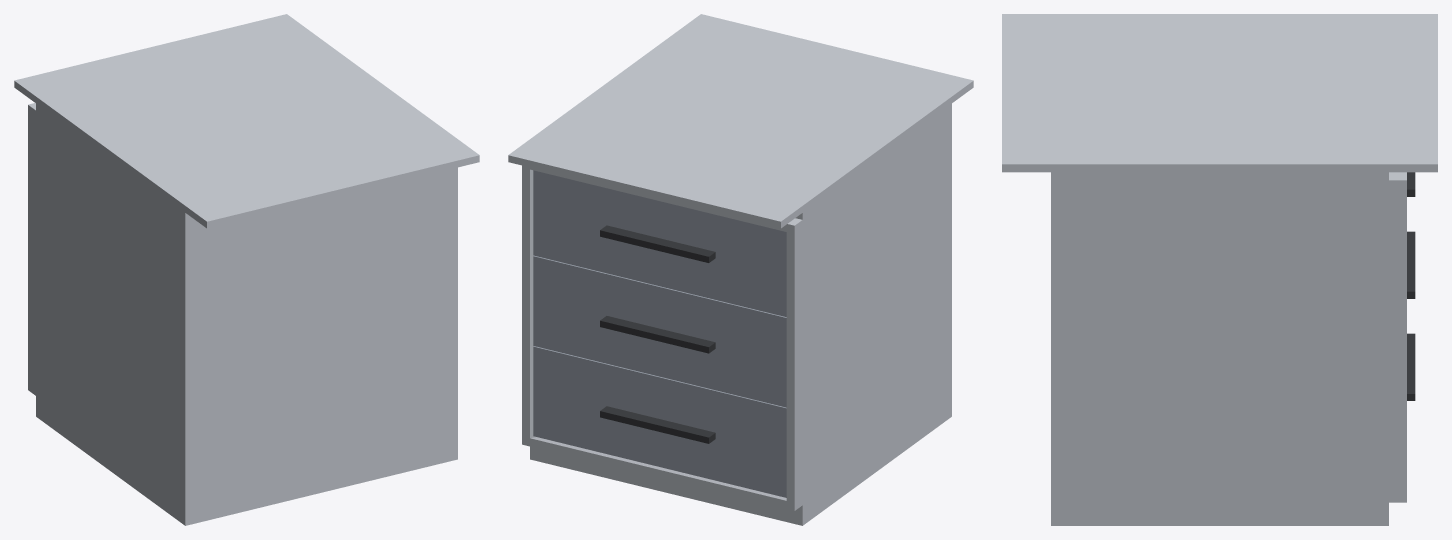
File: counter_counter_3_shelves.glb
The picture shows the model from 3 angles, left to right: view 1: azimuth 30°, elevation 25°; view 2: azimuth 150°, elevation 25°; view 3: azimuth 270°, elevation 25°; orthographic projection. The views are drawn at different scales.
Visible parts, largest first — view 1: counter_counter_3_shelves.001; view 2: counter_counter_3_shelves.001, counter_counter_shelf.005, counter_counter_shelf.004, counter_counter_shelf.003; view 3: counter_counter_3_shelves.001, counter_counter_shelf.004, counter_counter_shelf.005.
Boxes of the visible parts, left/top/right/bottom form: counter_counter_3_shelves.001: left=14, top=14, right=479, bottom=525; counter_counter_3_shelves.001: left=508, top=14, right=973, bottom=525; counter_counter_shelf.005: left=533, top=346, right=786, bottom=497; counter_counter_shelf.004: left=533, top=255, right=786, bottom=407; counter_counter_shelf.003: left=533, top=170, right=786, bottom=316; counter_counter_3_shelves.001: left=1002, top=14, right=1437, bottom=525; counter_counter_shelf.004: left=1407, top=231, right=1415, bottom=298; counter_counter_shelf.005: left=1407, top=333, right=1415, bottom=400.
Bounding box in the file's own units: 62.02 × 69.57 × 75.99.
Materials: 1 (1 with a texture image).
